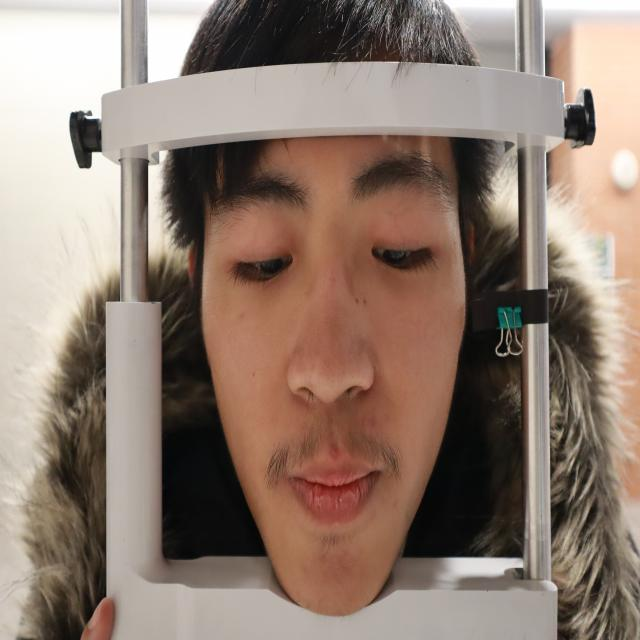eye: (227, 241, 299, 293), (366, 227, 434, 280)
gaze: (381, 239, 408, 269), (258, 252, 285, 278)
